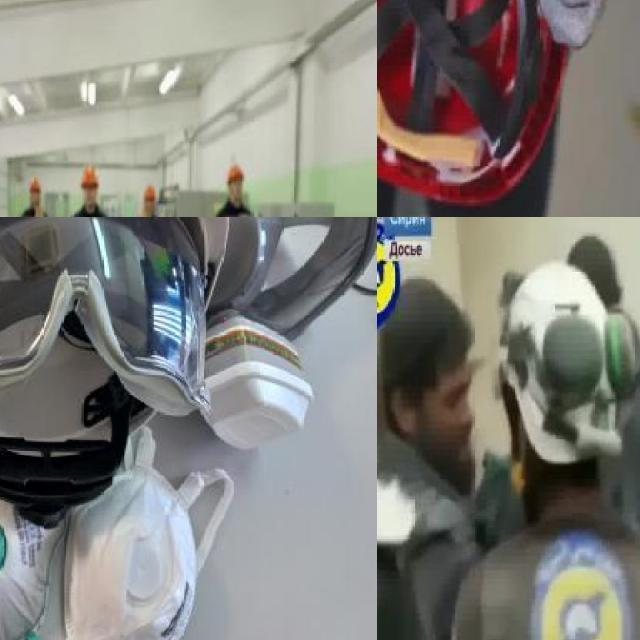apron: (522, 0, 627, 56)
